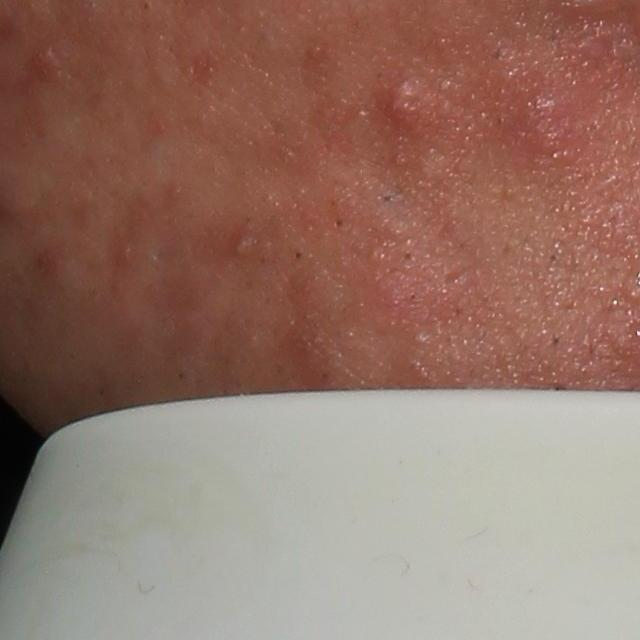papule: (511, 92, 578, 166), (382, 67, 431, 128), (30, 45, 58, 83)
